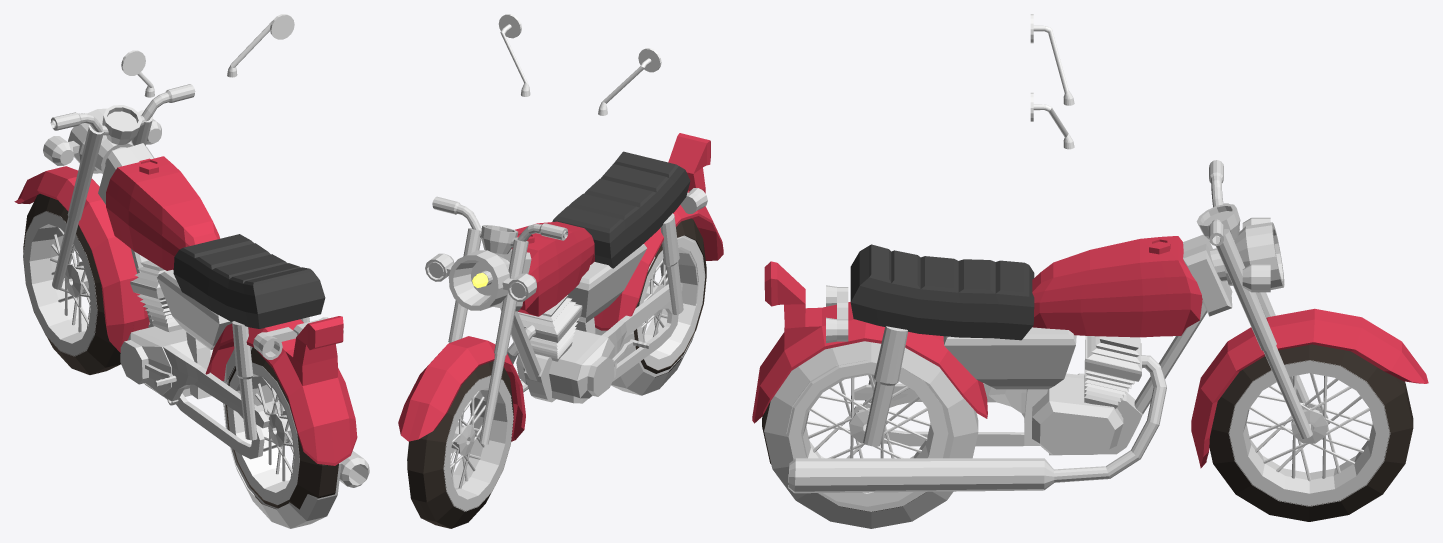
File: motor tekstur.fbx
3 renders of one model, left to right at view 1: azimuth 30°, elevation 25°; view 2: azimuth 150°, elevation 25°; view 3: azimuth 270°, elevation 25°, orthographic. The views are drawn at different scales.
Parts seen in each view (by area): view 1: KURSI, Circle.001, tangki, Circle, rim, Cube.003, rim.002, tire, shock deppan, tire.002, electric box, tire.001 (+16 smaller); view 2: KURSI, Circle, Cube.003, rim, tire, Circle.001, tangki, shock deppan, rim.002, Cylinder.001, electric box, Cylinder.002 (+15 smaller); view 3: KURSI, tangki, Vert, tire, tire.001, Circle, Circle.001, rim, Cube.003, electric box, rim.002, shock deppan (+16 smaller).
Boxes of the visible parts, x1,y1,x2,y2 form: KURSI: [173, 234, 325, 328]; Circle.001: [205, 316, 357, 465]; tangki: [106, 156, 219, 270]; Circle: [14, 166, 149, 352]; rim: [23, 211, 97, 356]; Cube.003: [120, 326, 269, 428]; rim.002: [227, 362, 299, 504]; tire: [23, 193, 120, 374]; shock deppan: [52, 110, 152, 289]; tire.002: [226, 347, 338, 509]; electric box: [157, 269, 232, 349]; tire.001: [223, 346, 341, 528]; KURSI: [552, 151, 690, 268]; Circle: [398, 336, 525, 441]; Cube.003: [516, 283, 682, 403]; rim: [407, 375, 513, 511]; tire: [407, 361, 513, 528]; Circle.001: [594, 133, 723, 330]; tangki: [511, 221, 594, 316]; shock deppan: [448, 228, 528, 444]; rim.002: [637, 235, 704, 370]; Cylinder.001: [448, 250, 509, 310]; electric box: [567, 244, 647, 322]; Cylinder.002: [498, 14, 661, 115]; KURSI: [850, 244, 1034, 340]; tangki: [1032, 236, 1202, 337]; Vert: [788, 355, 1166, 493]; tire: [1209, 344, 1413, 521]; tire.001: [764, 341, 978, 528]; Circle: [1191, 308, 1428, 468]; Circle.001: [752, 261, 987, 423]; rim: [1228, 360, 1390, 506]; Cube.003: [854, 373, 1123, 455]; electric box: [943, 327, 1076, 389]; rim.002: [786, 360, 948, 506]; shock deppan: [1216, 203, 1312, 438].
Bounding box in the file's own units: 159 × 382 × 500.
